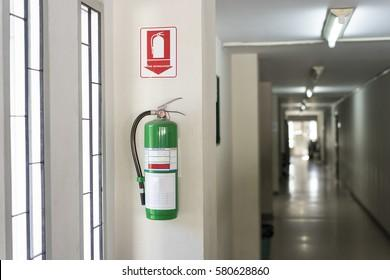wall-mounted: (119, 95, 192, 231)
